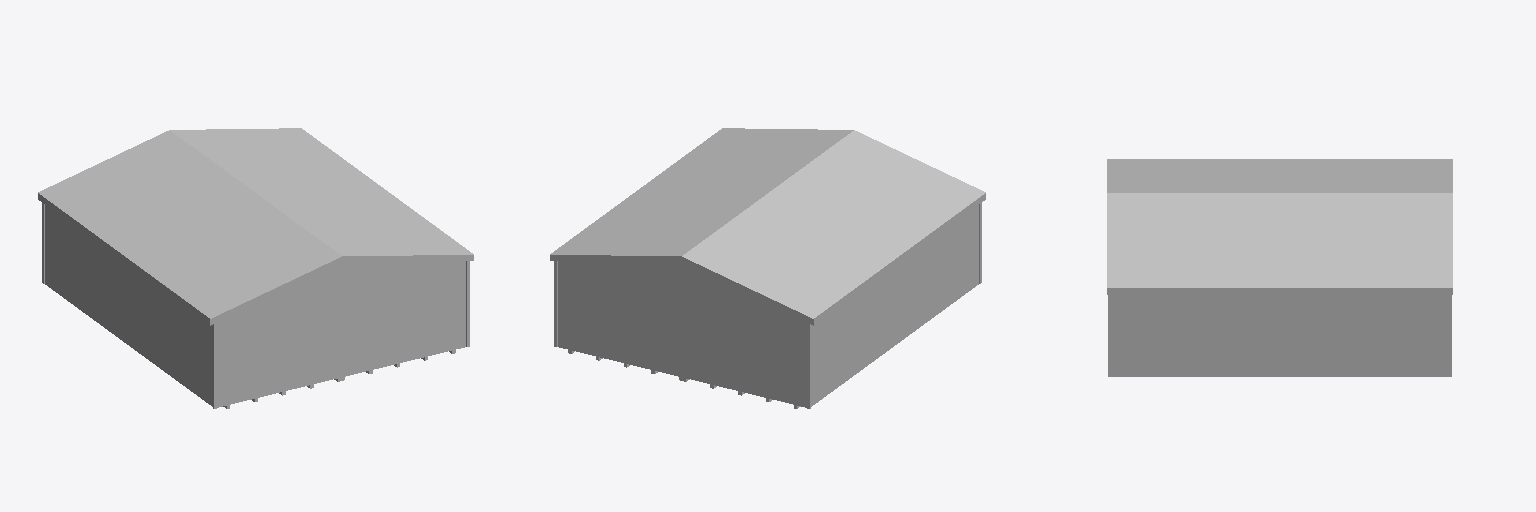
File: Double Garage 3-12 PITCH ROOF_24x28.obj
3 views of the same model, side by side, from view 1: azimuth 30°, elevation 25°; view 2: azimuth 150°, elevation 25°; view 3: azimuth 270°, elevation 25° (orthographic).
Visible parts, largest first — view 1: Double Garage 3-12 PITCH ROOF_24x28.obj; view 2: Double Garage 3-12 PITCH ROOF_24x28.obj; view 3: Double Garage 3-12 PITCH ROOF_24x28.obj.
Boxes of the visible parts, x1,y1,x2,y2 form: Double Garage 3-12 PITCH ROOF_24x28.obj: [38, 128, 473, 408]; Double Garage 3-12 PITCH ROOF_24x28.obj: [550, 128, 985, 408]; Double Garage 3-12 PITCH ROOF_24x28.obj: [1107, 159, 1452, 376].
Size of the model in its own units: 7.62 by 3.46 by 8.64.